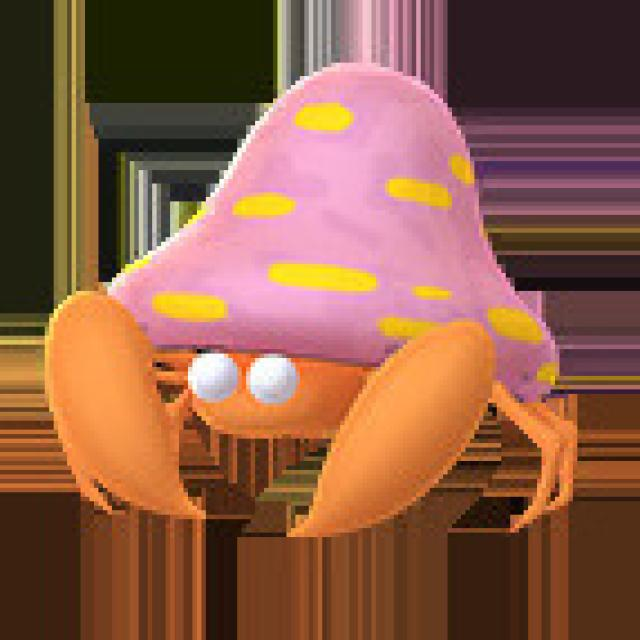Parasect: (68, 73, 570, 533)
